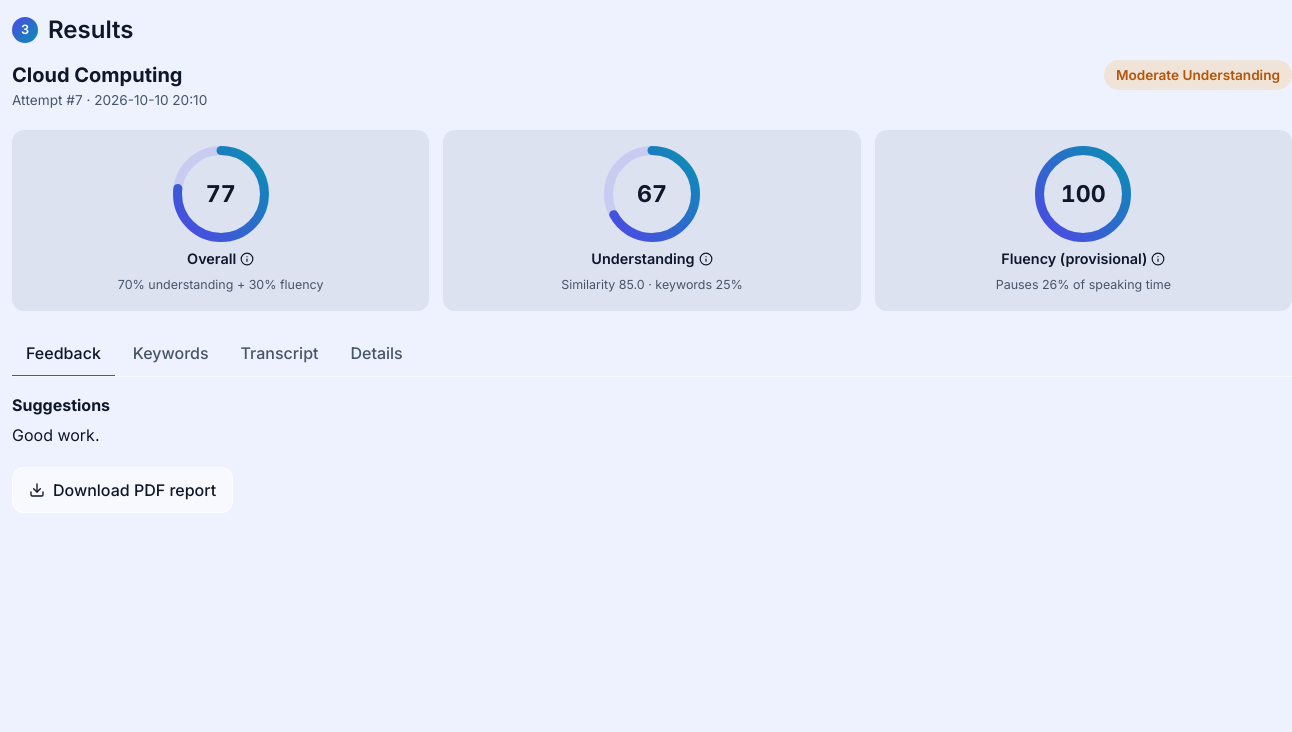
Test: Results › switches tabs with clicks and arrow keys
expect the text "Good work." is shown: met, box [12, 425, 100, 445]
Click the tab "Keywords". click: {"x": 171, "y": 354}
box: [119, 331, 223, 377]
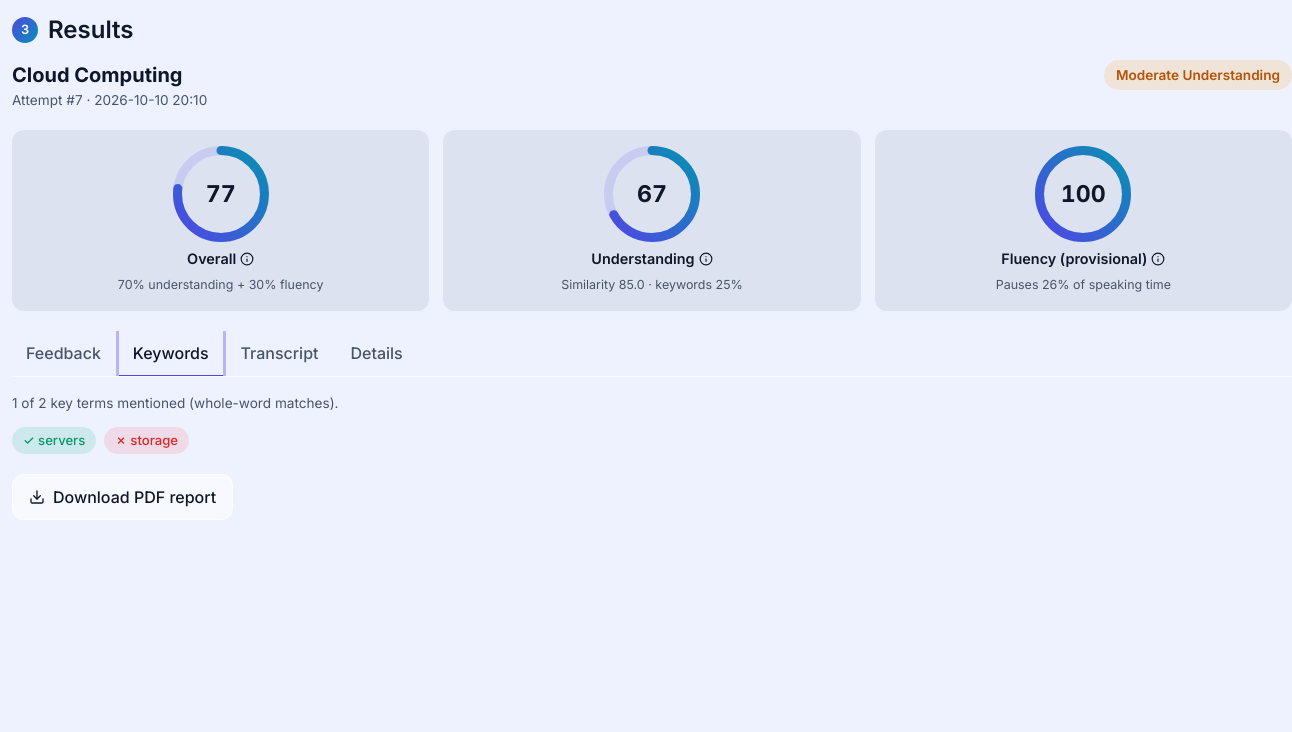
expect the text "1 of 2 key terms mentioned (whole-word matches)." is shown: met, box [12, 395, 338, 411]
Press Arrowright
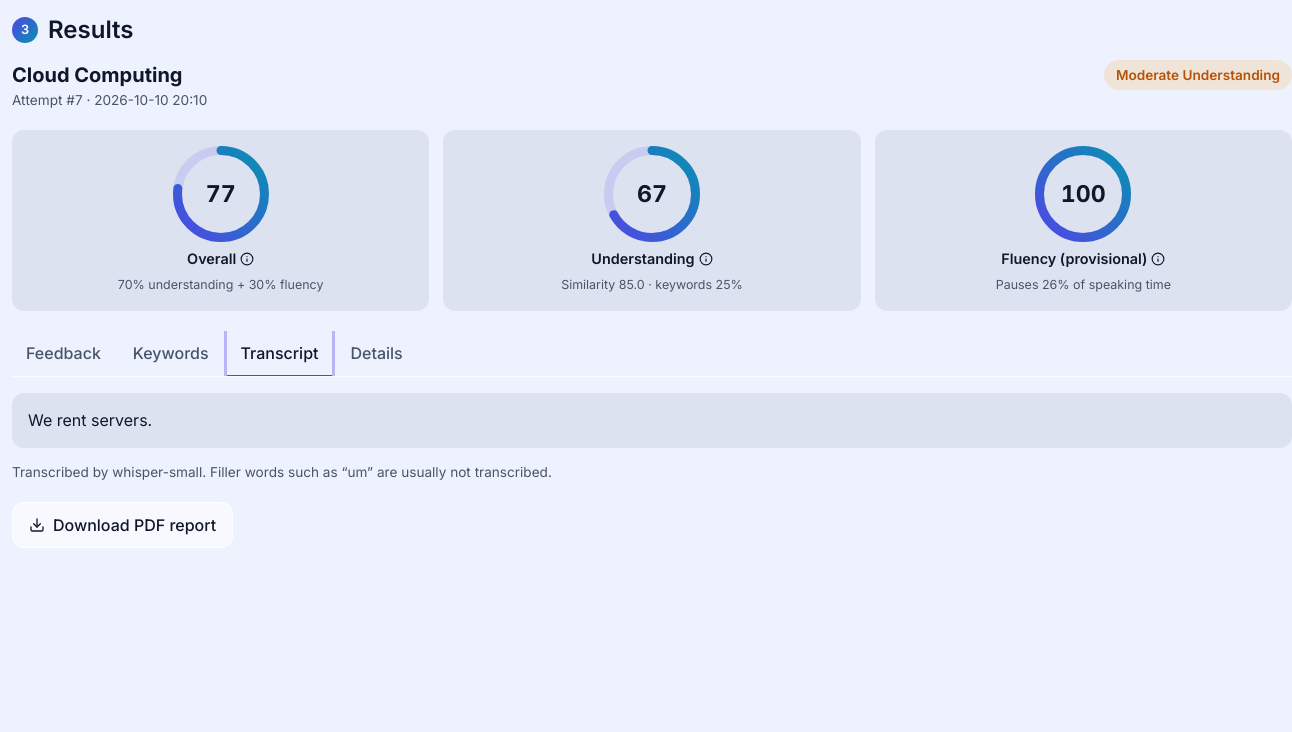
expect the text "We rent servers." is shown: met, box [12, 393, 1291, 448]
Click the tab "Details". click: {"x": 377, "y": 354}
box: [336, 331, 417, 377]
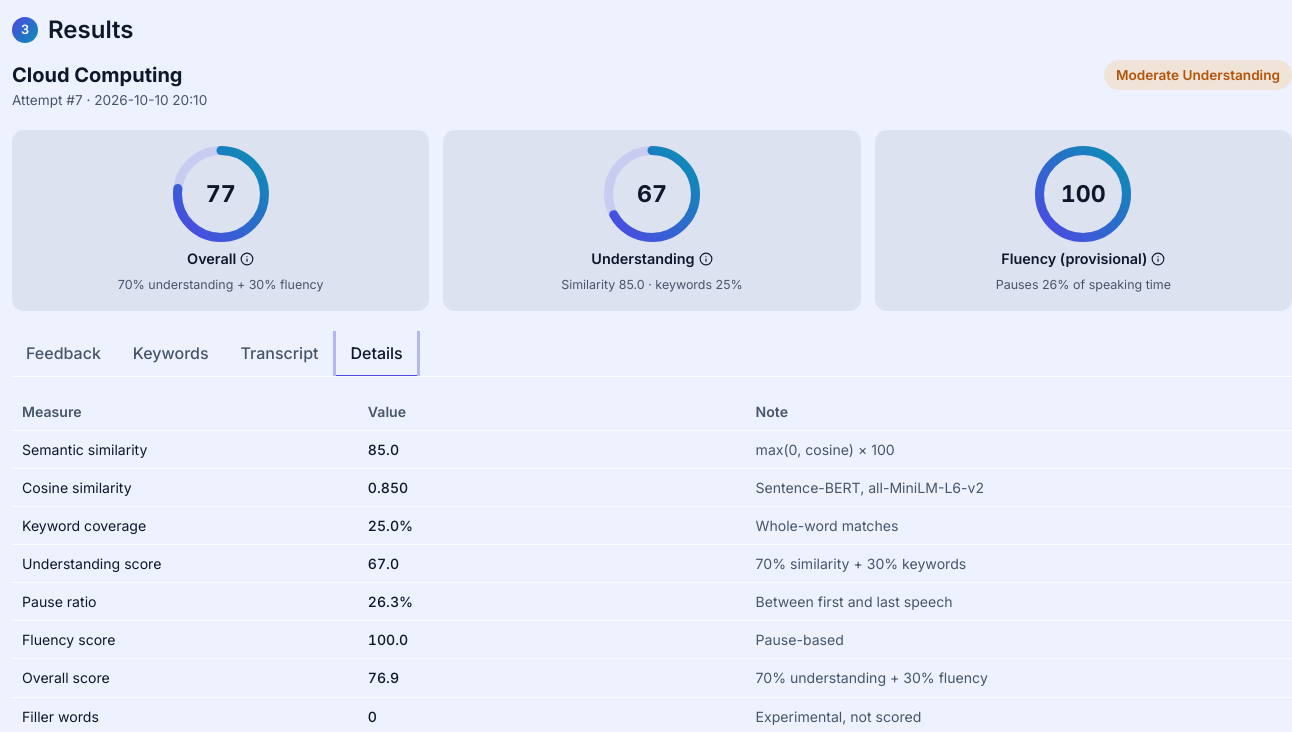
expect the text "Cosine similarity" is shown: met, box [12, 468, 358, 506]
